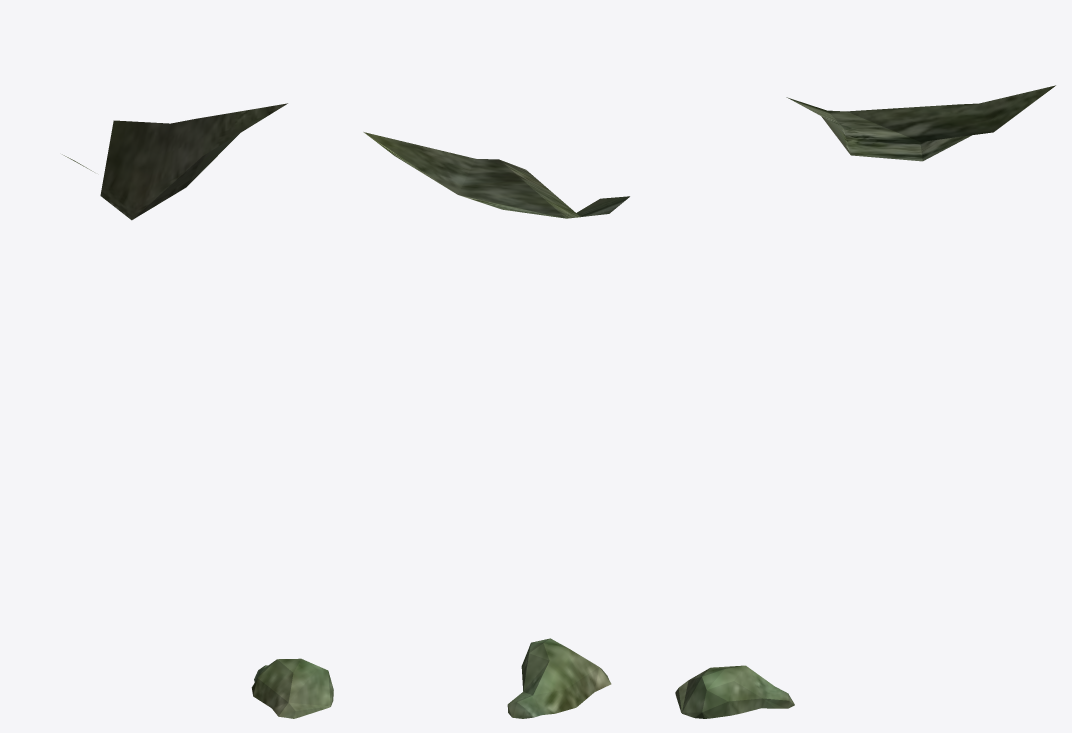
3 renders of one model, left to right at view 1: azimuth 30°, elevation 25°; view 2: azimuth 150°, elevation 25°; view 3: azimuth 270°, elevation 25°, orthographic. The views are drawn at different scales.
Size of the model in its own units: 0.9909 by 2.95 by 1.64.
Materials: 1 (1 with a texture image).
